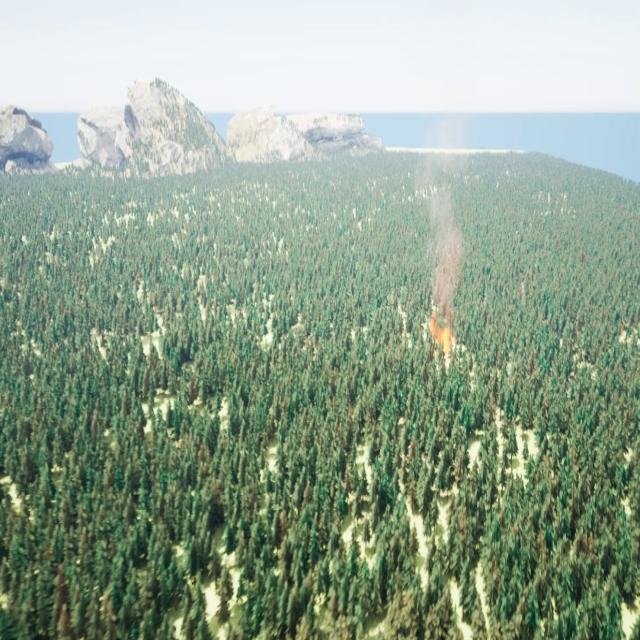fire: (430, 310, 455, 350)
smoke: (416, 115, 466, 304)
